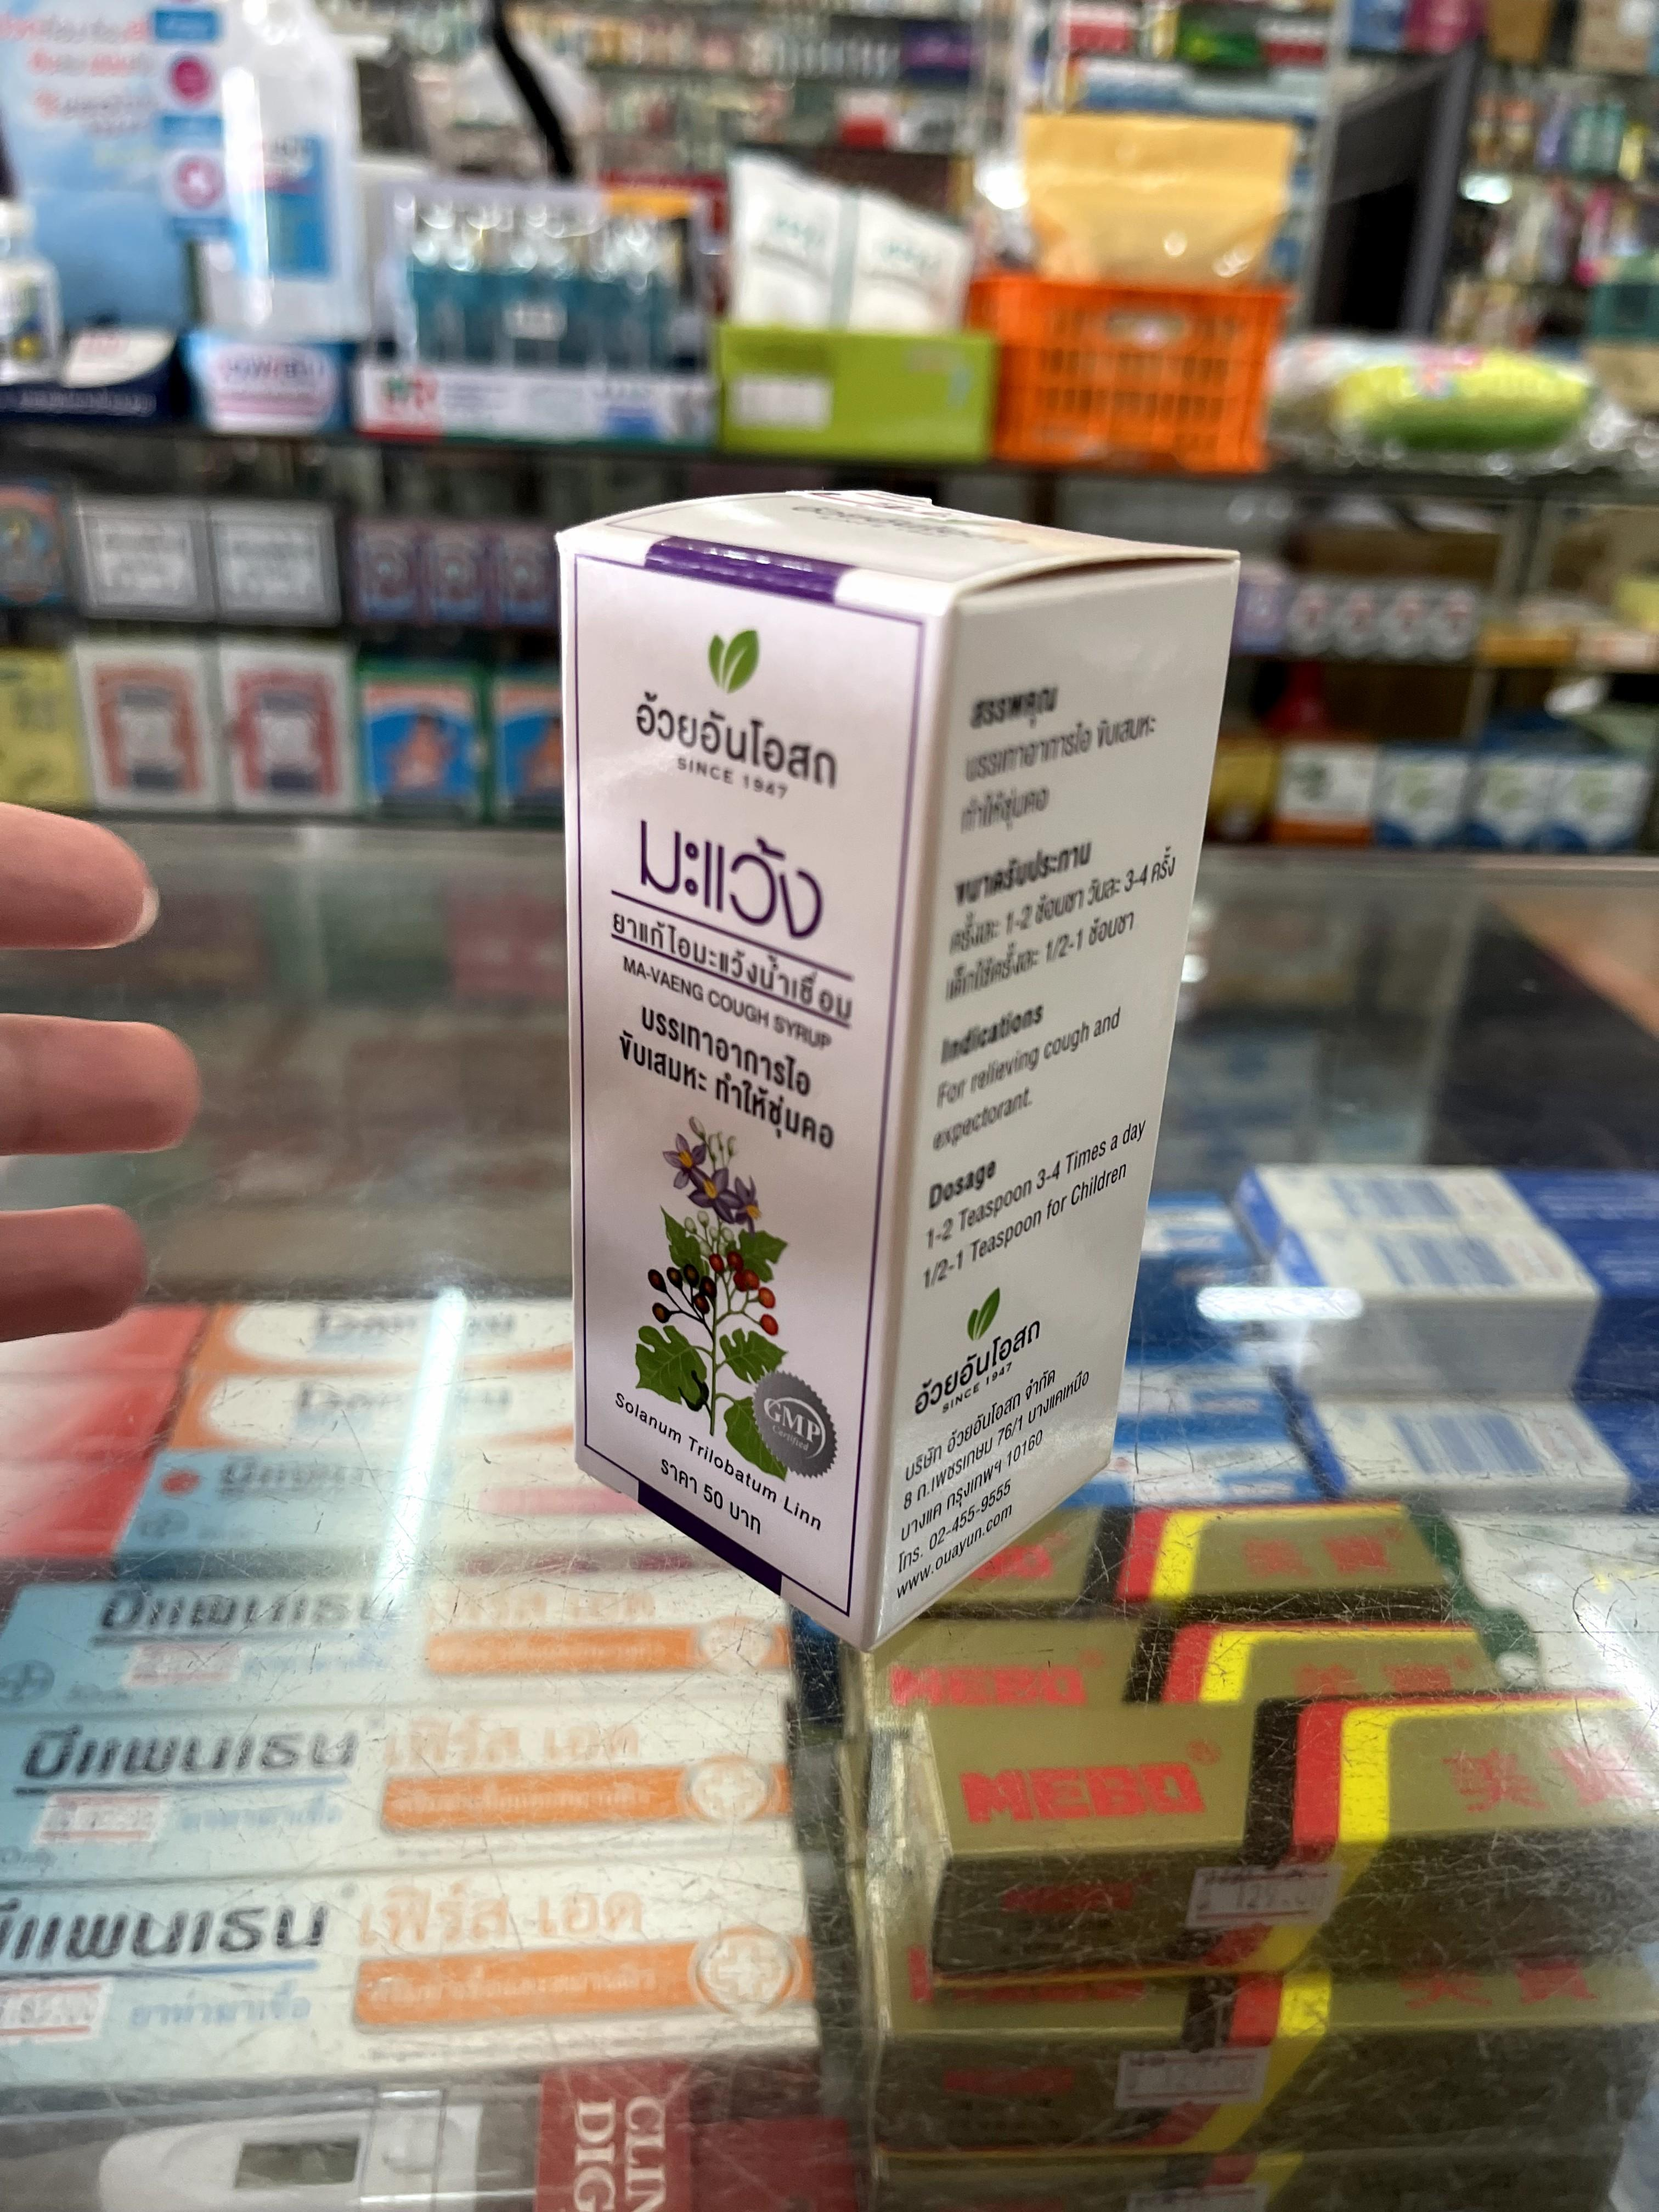Ma-Vaeng_Syrup: (565, 493, 1232, 1649)
